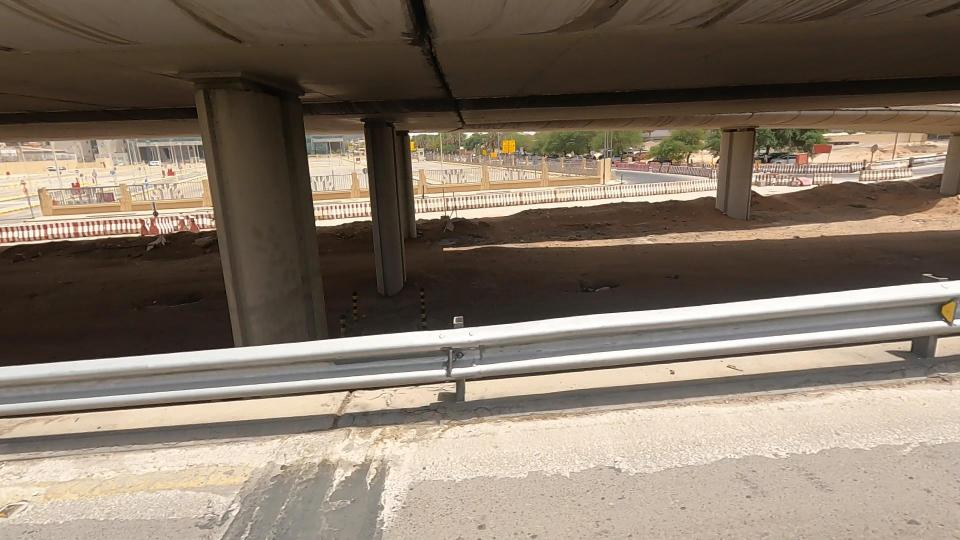SAND_ON_ROAD: (445, 176, 693, 257), (788, 158, 901, 220)
